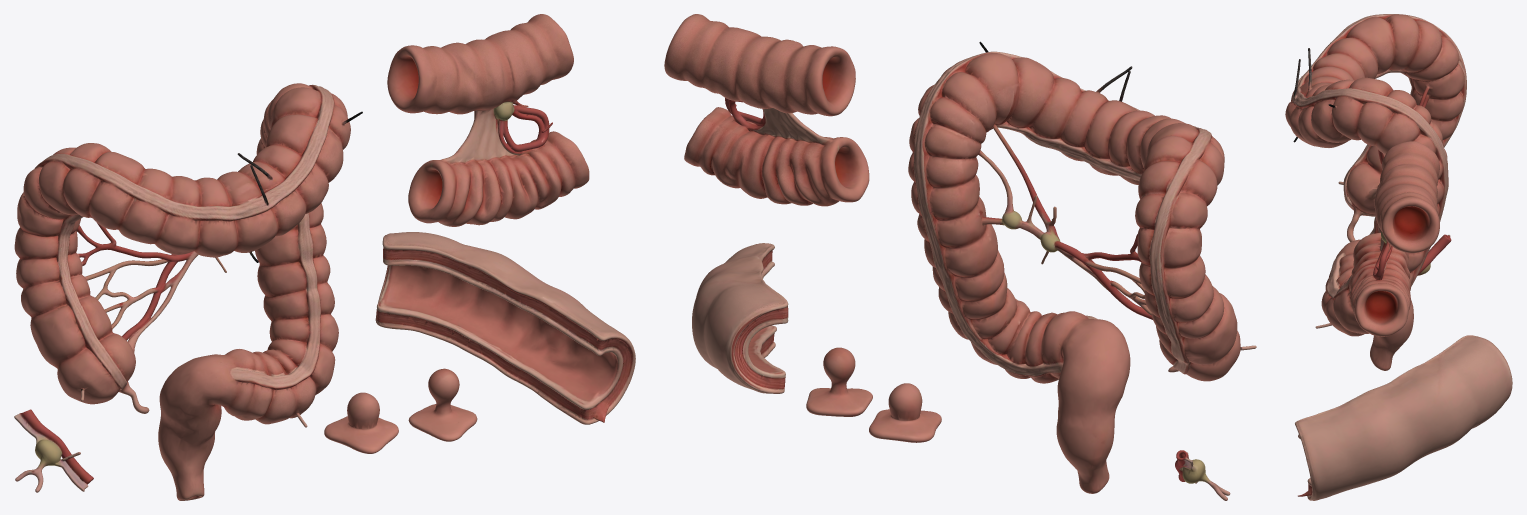
File: intestine.glb
The picture shows the model from 3 angles, left to right: view 1: azimuth 30°, elevation 25°; view 2: azimuth 150°, elevation 25°; view 3: azimuth 270°, elevation 25°; orthographic projection. The views are drawn at different scales.
Parts seen in each view (by area): view 1: tripo_node_40bead0b-1214-4232-92ed-e15d703a9ce9; view 2: tripo_node_40bead0b-1214-4232-92ed-e15d703a9ce9; view 3: tripo_node_40bead0b-1214-4232-92ed-e15d703a9ce9.
Part boxes in pixels (x1=…): tripo_node_40bead0b-1214-4232-92ed-e15d703a9ce9: x1=14, y1=14, x2=635, y2=500; tripo_node_40bead0b-1214-4232-92ed-e15d703a9ce9: x1=664, y1=14, x2=1256, y2=500; tripo_node_40bead0b-1214-4232-92ed-e15d703a9ce9: x1=1285, y1=14, x2=1512, y2=500.
Size of the model in its own units: 1 by 0.6723 by 0.4153.
Materials: 1 (1 with a texture image).
